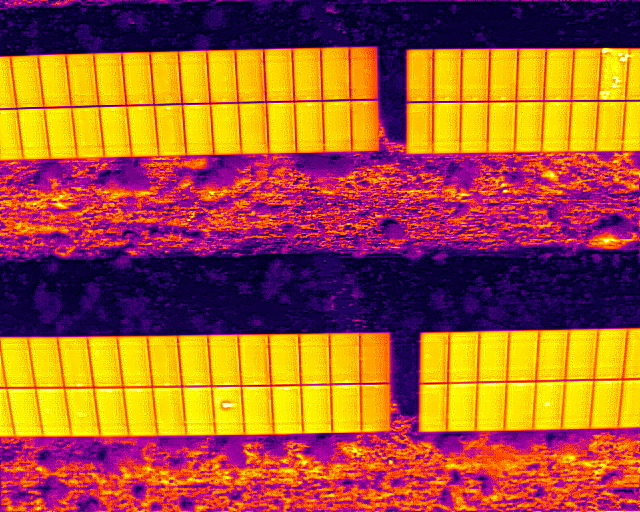multi_spot: (597, 46, 630, 101)
photovoltaic_panels: (3, 44, 379, 165), (3, 331, 391, 441), (404, 45, 638, 153), (417, 326, 638, 432)
single_spot: (209, 384, 245, 435), (532, 379, 566, 430)
